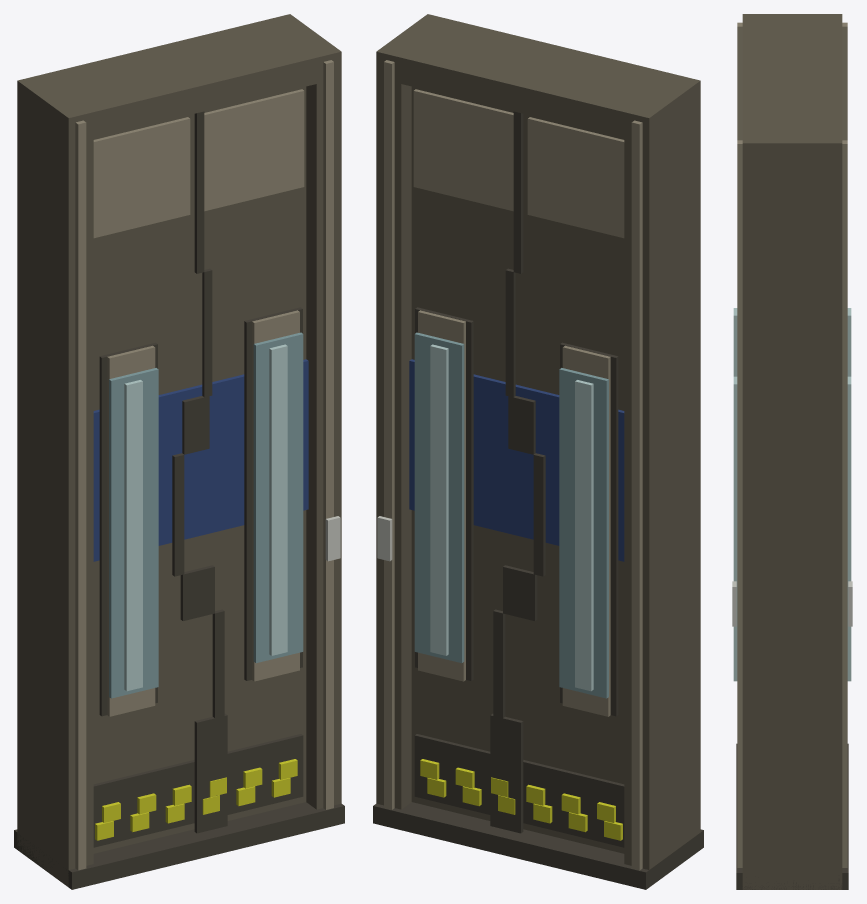
The model's file is CMU3DSingleCommandGovforDoorGlass.glb.
3 renders of one model, left to right at view 1: azimuth 30°, elevation 25°; view 2: azimuth 150°, elevation 25°; view 3: azimuth 270°, elevation 25°, orthographic. The views are drawn at different scales.
Parts seen in each view (by area): view 1: door jamb (×2), closed leaf body, glass port (×2), header, upper inset band (×2), jamb raised edge (×2), leaf meeting seam (×7), department color band, glass reflection (×2), lower hazard backing, threshold, window dark surround (×2) (+2 smaller); view 2: door jamb (×2), closed leaf body, glass port back (×2), header, upper inset band back (×2), jamb raised edge (×2), leaf meeting seam back (×7), department color band back, glass reflection back (×2), threshold, lower hazard backing back, window dark surround back (×2) (+2 smaller); view 3: door jamb (×2), header, jamb raised edge (×4), glass reflection (×2), glass reflection back (×2), threshold.
Boxes of the visible parts, box(x1,y1,x2,y2) form: door jamb (×2): box(17, 14, 341, 887); closed leaf body: box(93, 86, 306, 853); glass port (×2): box(109, 332, 303, 698); header: box(17, 14, 341, 144); upper inset band (×2): box(93, 89, 304, 238); jamb raised edge (×2): box(75, 60, 333, 870); leaf meeting seam (×7): box(172, 111, 227, 833); department color band: box(93, 359, 308, 561); glass reflection (×2): box(124, 344, 287, 691); lower hazard backing: box(93, 734, 303, 847); threshold: box(14, 802, 344, 889); window dark surround (×2): box(99, 307, 302, 716); door jamb (×2): box(376, 14, 700, 869); closed leaf body: box(411, 86, 624, 853); glass port back (×2): box(414, 332, 608, 698); header: box(376, 14, 700, 144); upper inset band back (×2): box(413, 89, 624, 238); jamb raised edge (×2): box(384, 60, 642, 870); leaf meeting seam back (×7): box(490, 111, 545, 833); department color band back: box(409, 359, 624, 561); glass reflection back (×2): box(430, 344, 593, 691); threshold: box(373, 802, 703, 889); lower hazard backing back: box(414, 734, 624, 847); window dark surround back (×2): box(415, 307, 618, 716); door jamb (×2): box(742, 14, 842, 889); header: box(742, 14, 842, 168); jamb raised edge (×4): box(737, 22, 847, 867); glass reflection (×2): box(733, 308, 737, 681); glass reflection back (×2): box(847, 308, 851, 681); threshold: box(736, 743, 848, 889).
Size of the model in its own units: 0.98 by 2.64 by 0.386.
